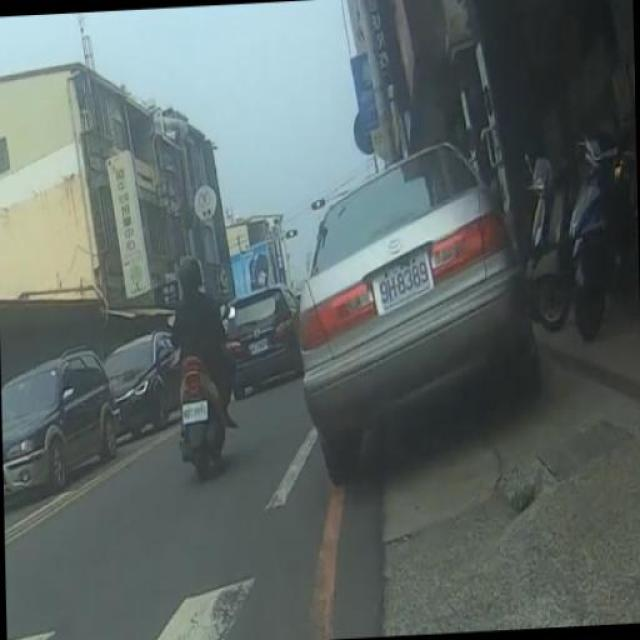illegalparking: (268, 97, 549, 525)
